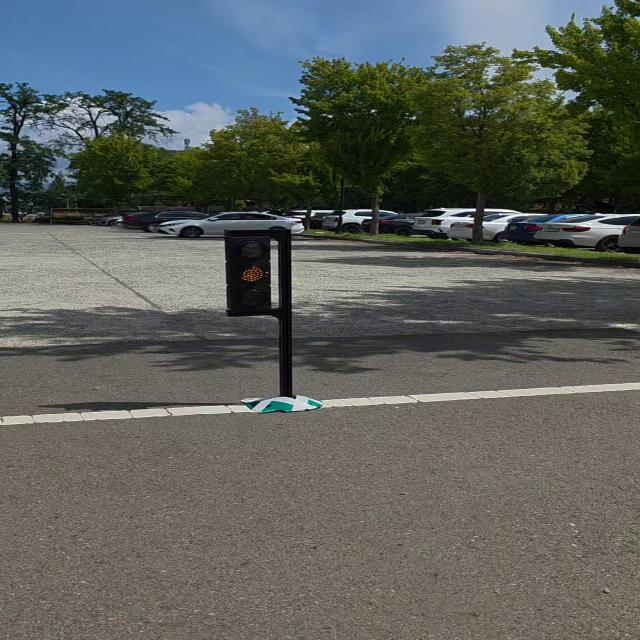yellow: (219, 228, 280, 318)
